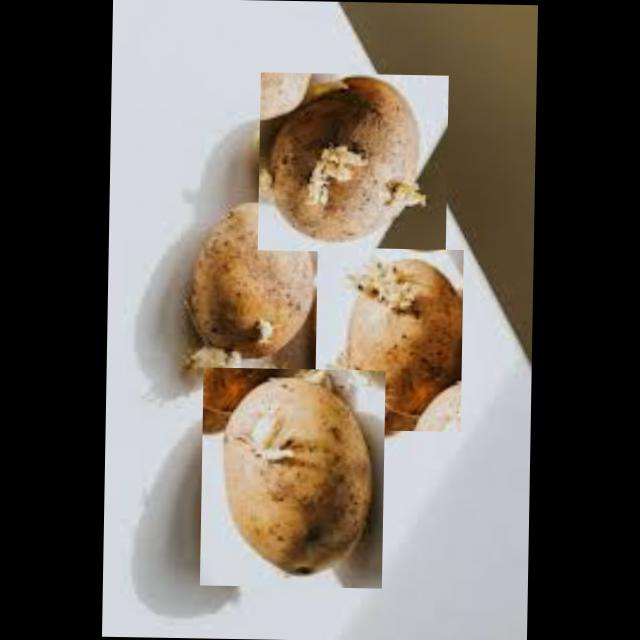Sprouted potato: (200, 366, 386, 587), (257, 71, 448, 252), (174, 174, 336, 362), (314, 245, 463, 430)
